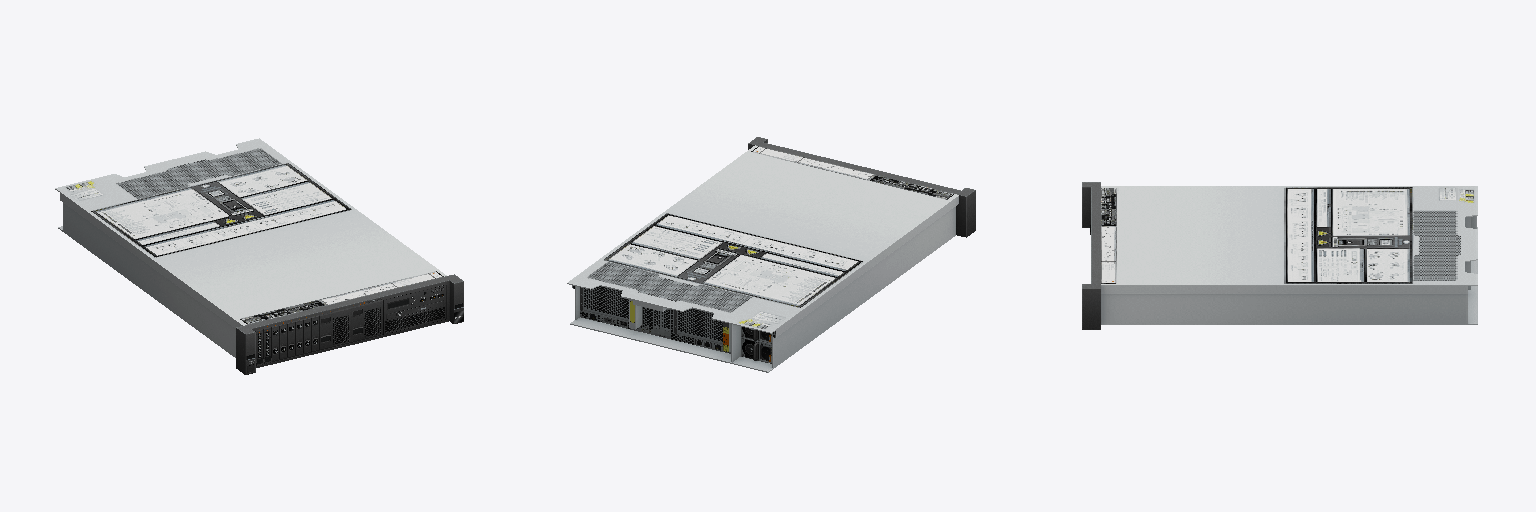
3 views of the same model, side by side, from view 1: azimuth 30°, elevation 25°; view 2: azimuth 150°, elevation 25°; view 3: azimuth 270°, elevation 25° (orthographic).
Parts seen in each view (by area): view 1: group5_polySurface20_polySurface44; view 2: group5_polySurface20_polySurface44; view 3: group5_polySurface20_polySurface44.
Part boxes in pixels (left/top/right/bottom): group5_polySurface20_polySurface44: left=55, top=138, right=463, bottom=374; group5_polySurface20_polySurface44: left=567, top=137, right=975, bottom=372; group5_polySurface20_polySurface44: left=1082, top=182, right=1477, bottom=329.
Size of the model in its own units: 17.65 by 3.15 by 27.67.
Materials: 1 (1 with a texture image).